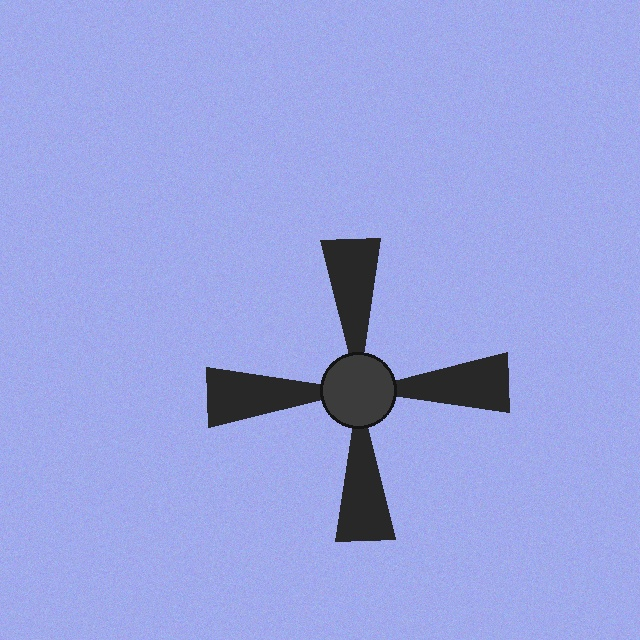fan: (177, 209, 539, 571)
